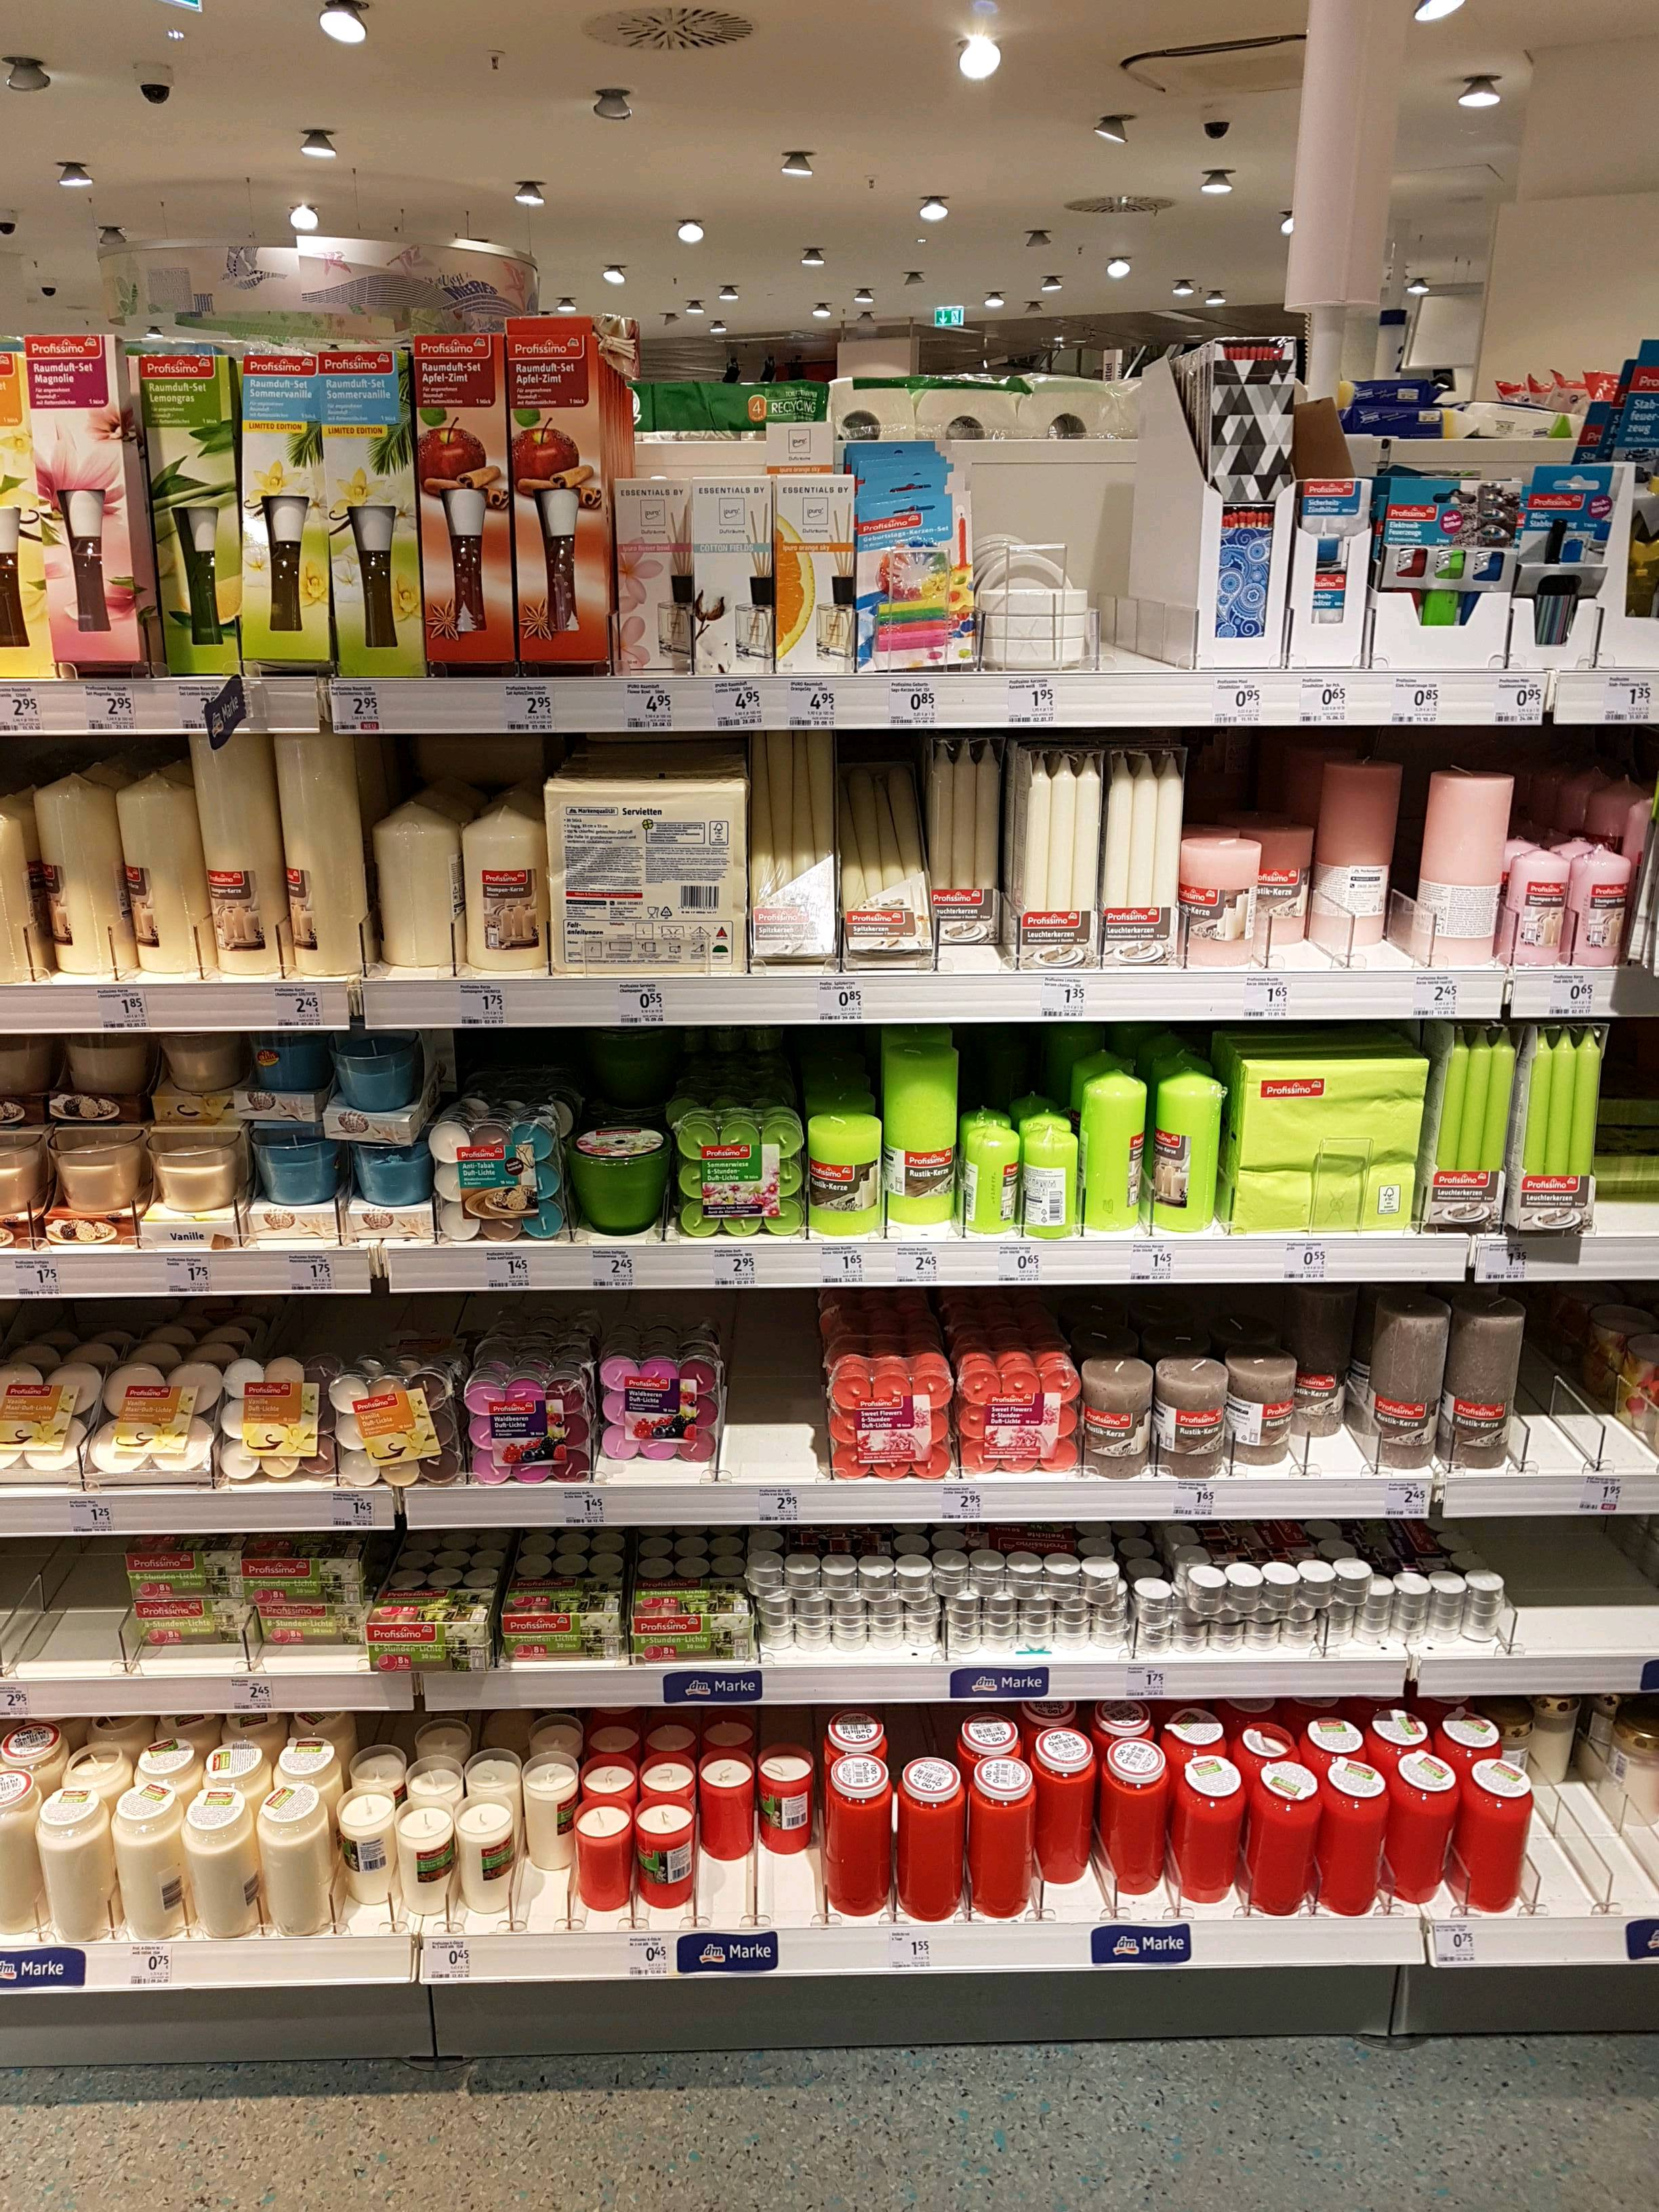Misplacement: (591, 1308, 718, 1484)
Out-of-stock: (720, 1291, 831, 1480)
